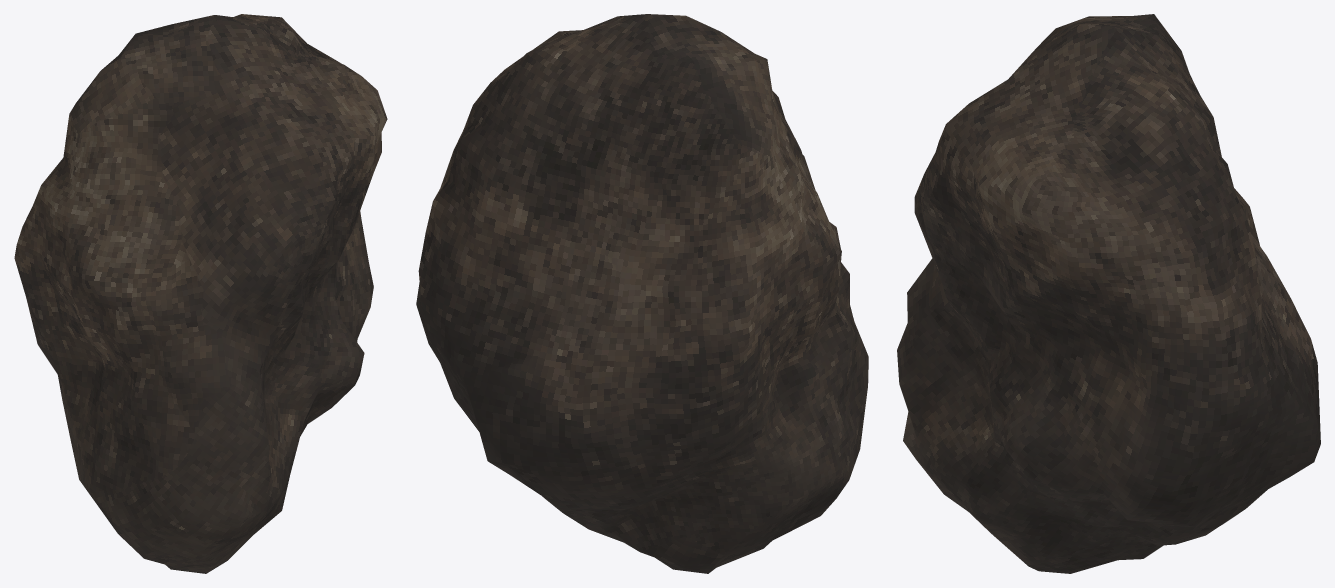
File: SM_RP2_Rock_2m_3.glb
The picture shows the model from 3 angles, left to right: view 1: azimuth 30°, elevation 25°; view 2: azimuth 150°, elevation 25°; view 3: azimuth 270°, elevation 25°; orthographic projection. The views are drawn at different scales.
Visible parts, largest first — view 1: SM_RP2_Rock_2m_3; view 2: SM_RP2_Rock_2m_3; view 3: SM_RP2_Rock_2m_3.
Part boxes in pixels (x1,y1,x2,y2): SM_RP2_Rock_2m_3: (14,14,387,573); SM_RP2_Rock_2m_3: (416,14,868,573); SM_RP2_Rock_2m_3: (897,14,1320,573).
Bounding box in the file's own units: 2.3 × 3.47 × 2.36.
Materials: 1 (1 with a texture image).
